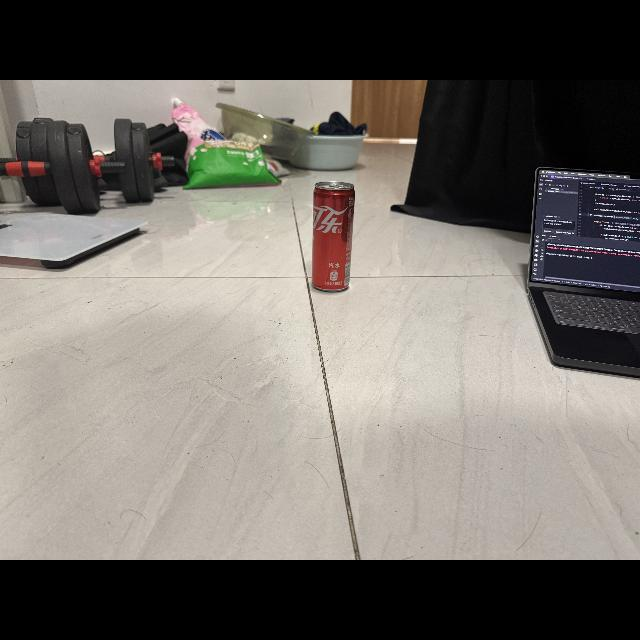Cola: (306, 178, 360, 296)
